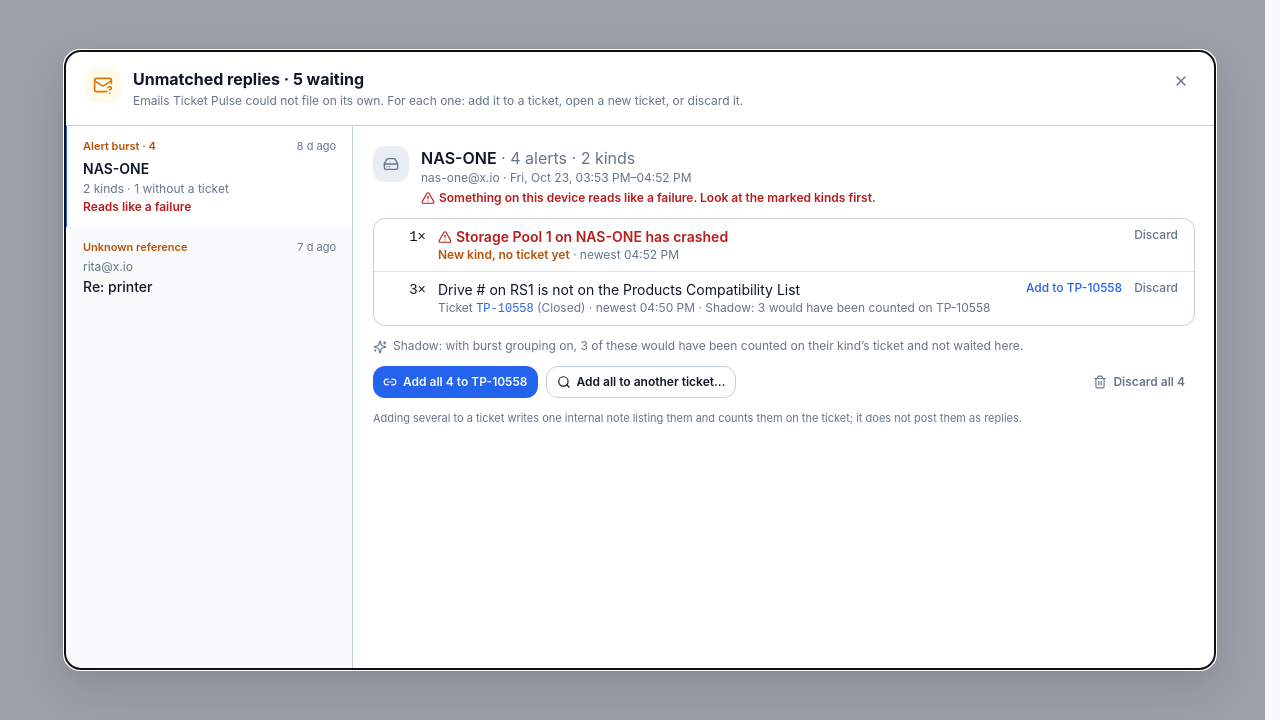
Test: grouped queue in the popup and on Settings › the popup lists the device first, opens it, and one click files the whole burst
This screenshot has width=1280, height=720.
Expected: the heading "Unmatched replies · 5 waiting" is shown, left=133, top=69, right=364, bottom=89
Expected: the button with test id "held-dialog-group" shows "Alert burst · 4", left=65, top=126, right=352, bottom=227
Click the button with test id "held-group-attach-all" at (455, 382), box left=373, top=366, right=538, bottom=398
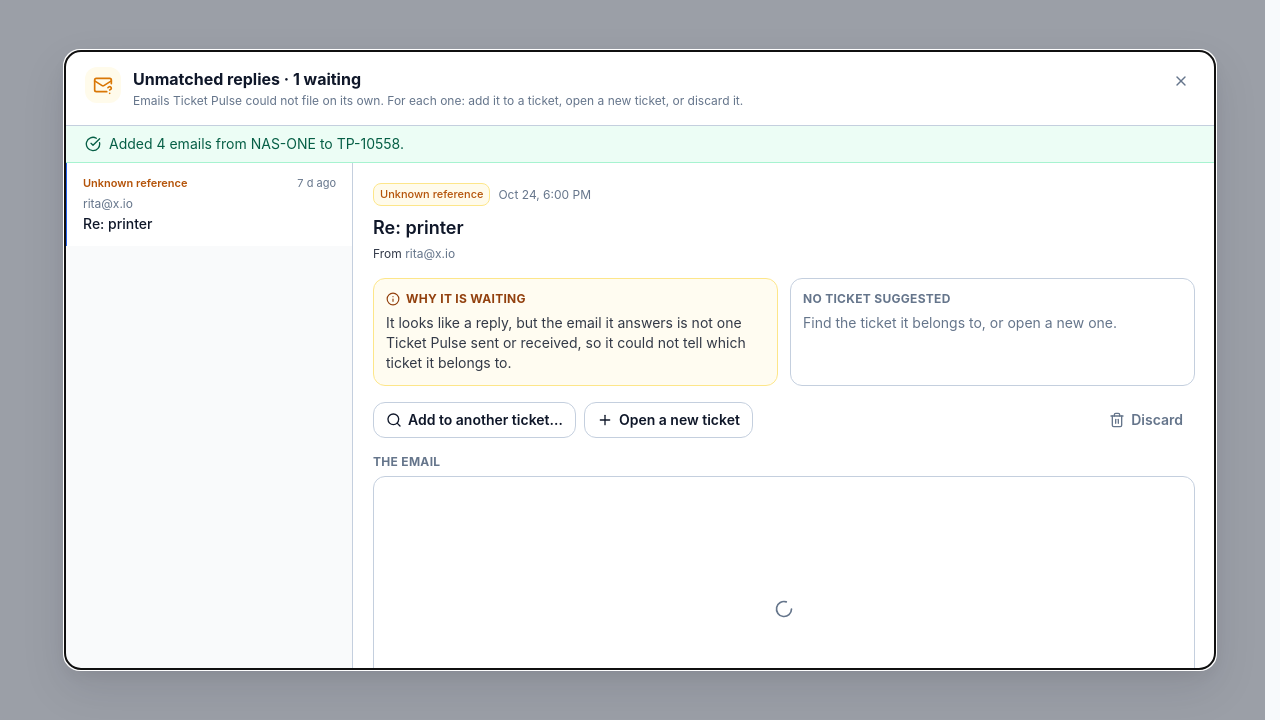
Now the message reads "Added 4 emails from NAS-ONE to TP-10558.", box left=109, top=135, right=404, bottom=152
Now the button with test id "held-dialog-group" is gone
